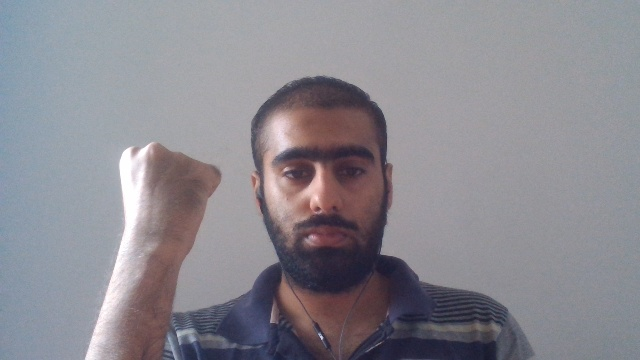rock: (117, 140, 222, 248)
